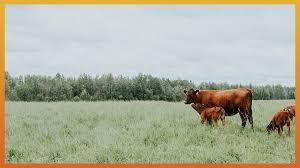cow: (184, 87, 254, 131), (266, 111, 291, 137), (199, 106, 226, 129)
